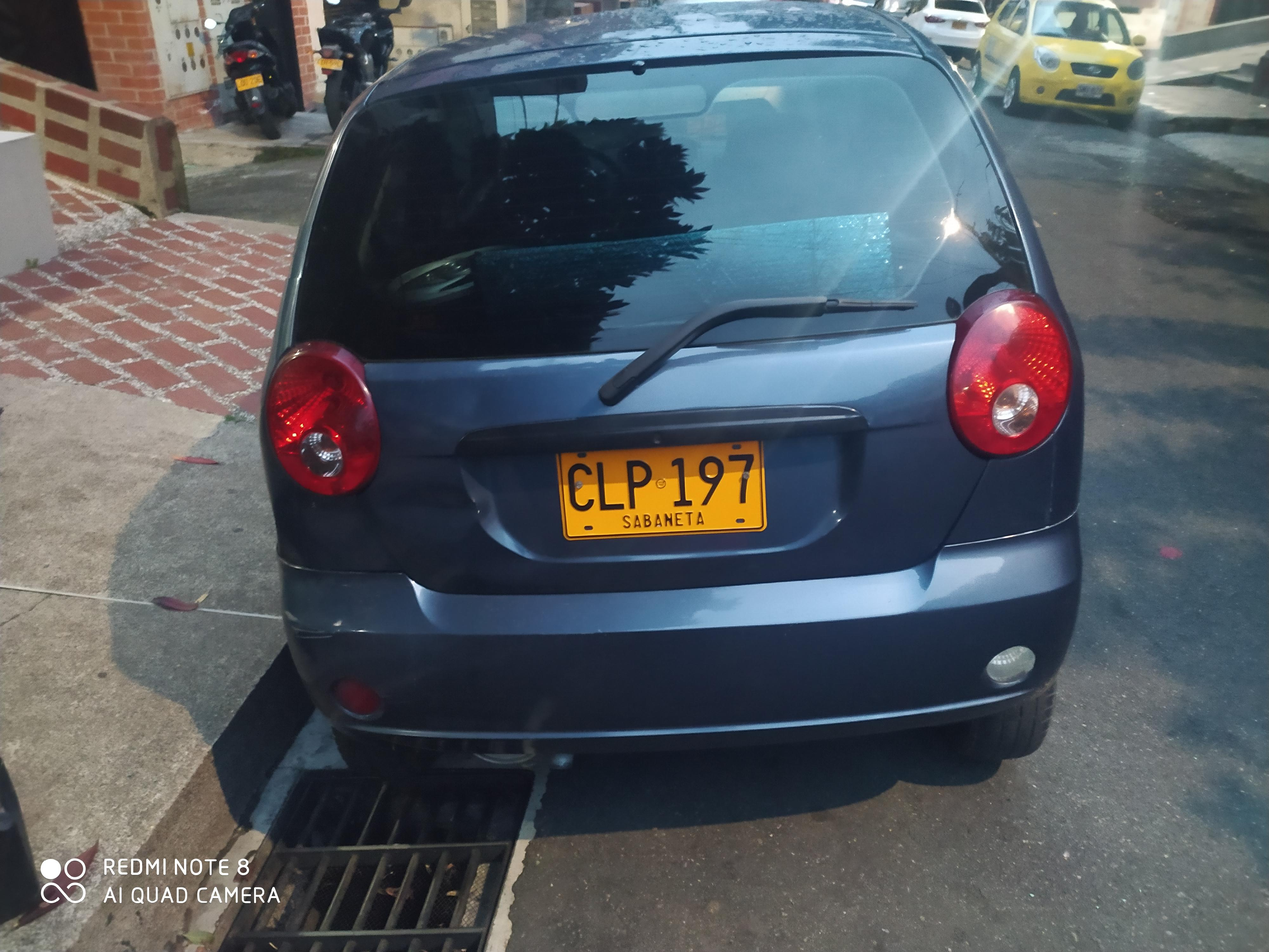placa: (540, 433, 777, 544)
